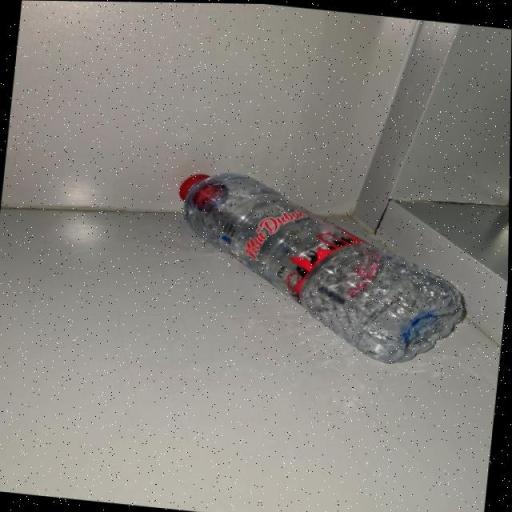plastic: (166, 169, 476, 370)
